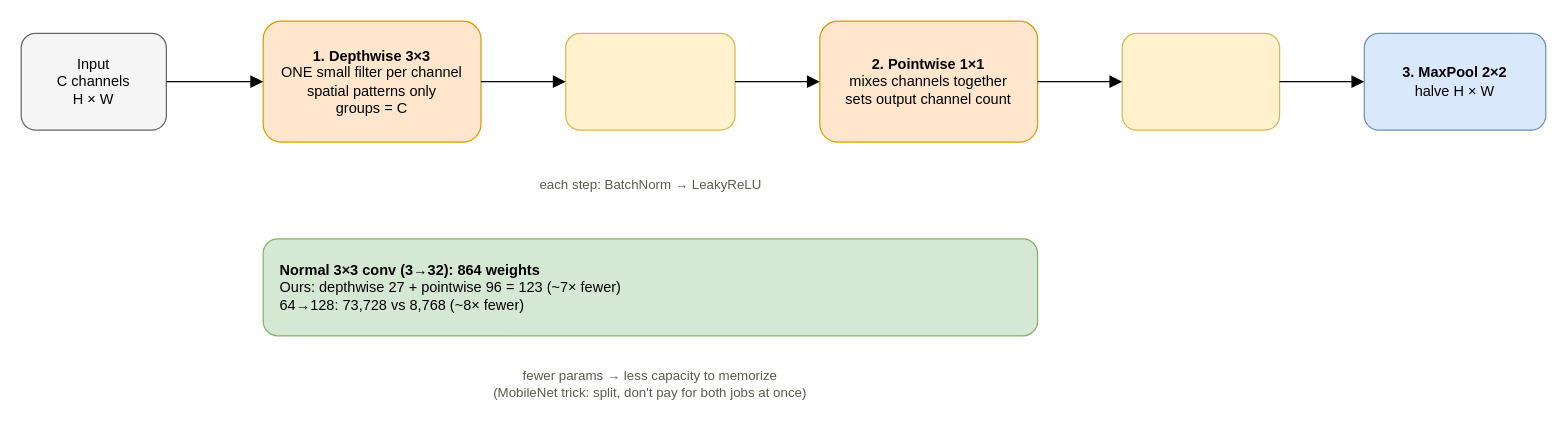
Image size: 1567x430. Some labels were removed from this diagram. Here are the shapes that lost their labels. From the top down, the box of each, then its label:
(564, 32, 735, 130): C channels filtered separately H × W
(1121, 32, 1280, 130): C → C' channels H × W
